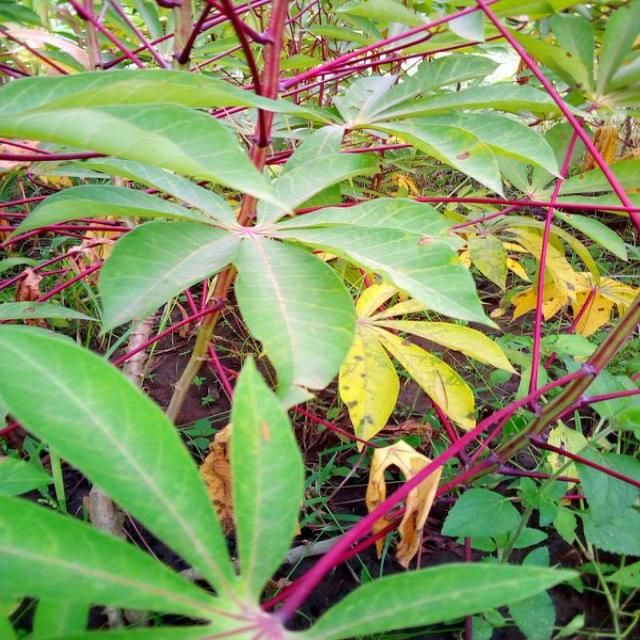cassava leaf: (0, 321, 236, 593), (232, 232, 358, 409), (229, 353, 305, 600)
